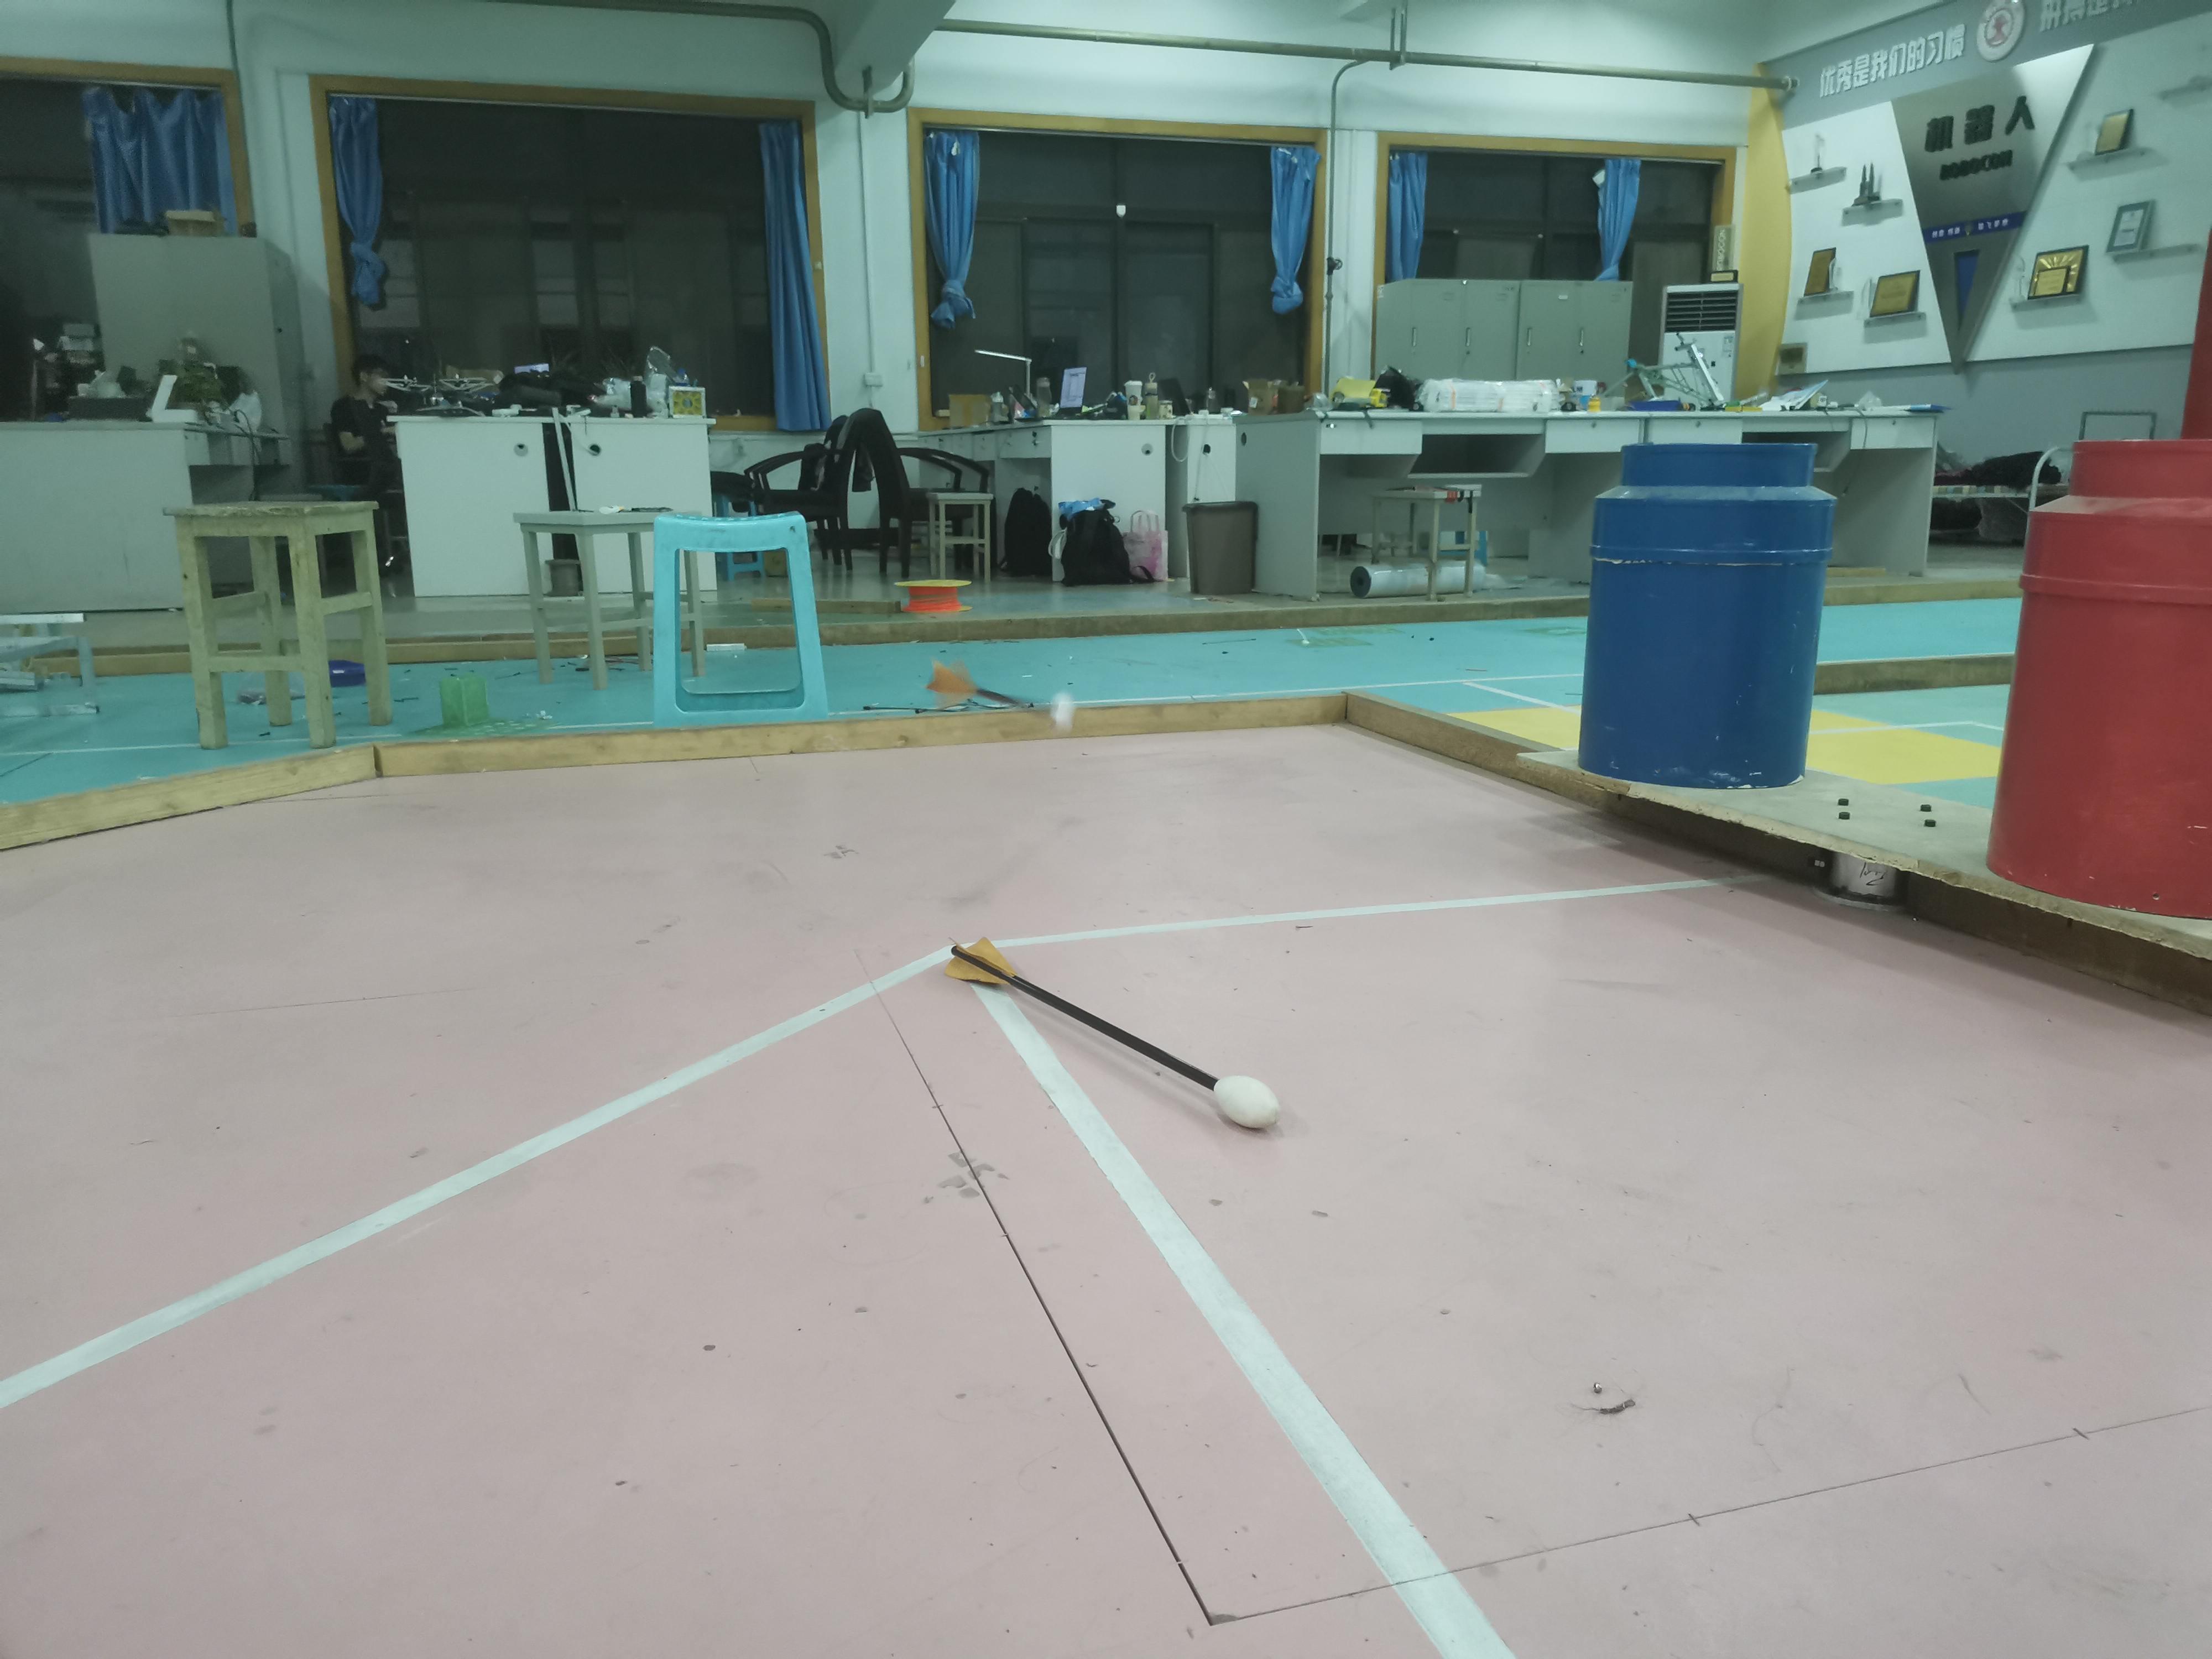arrow: (941, 925, 1282, 1133), (925, 657, 1076, 728)
arrowFront: (1211, 1070, 1284, 1133), (1040, 687, 1076, 732)
blueBucket: (1578, 441, 1838, 789)
redBucket: (1984, 432, 2212, 922)
